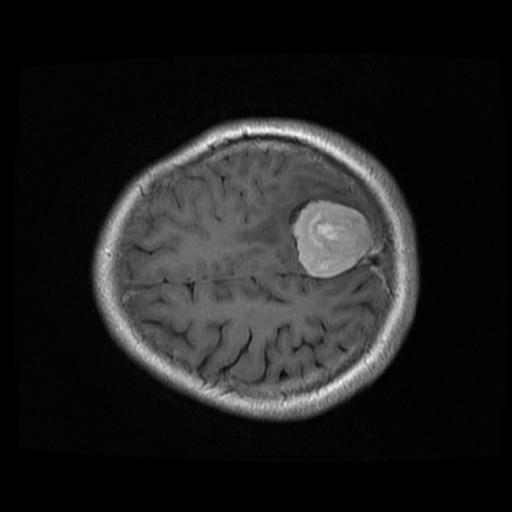meningioma: (291, 201, 373, 278)
